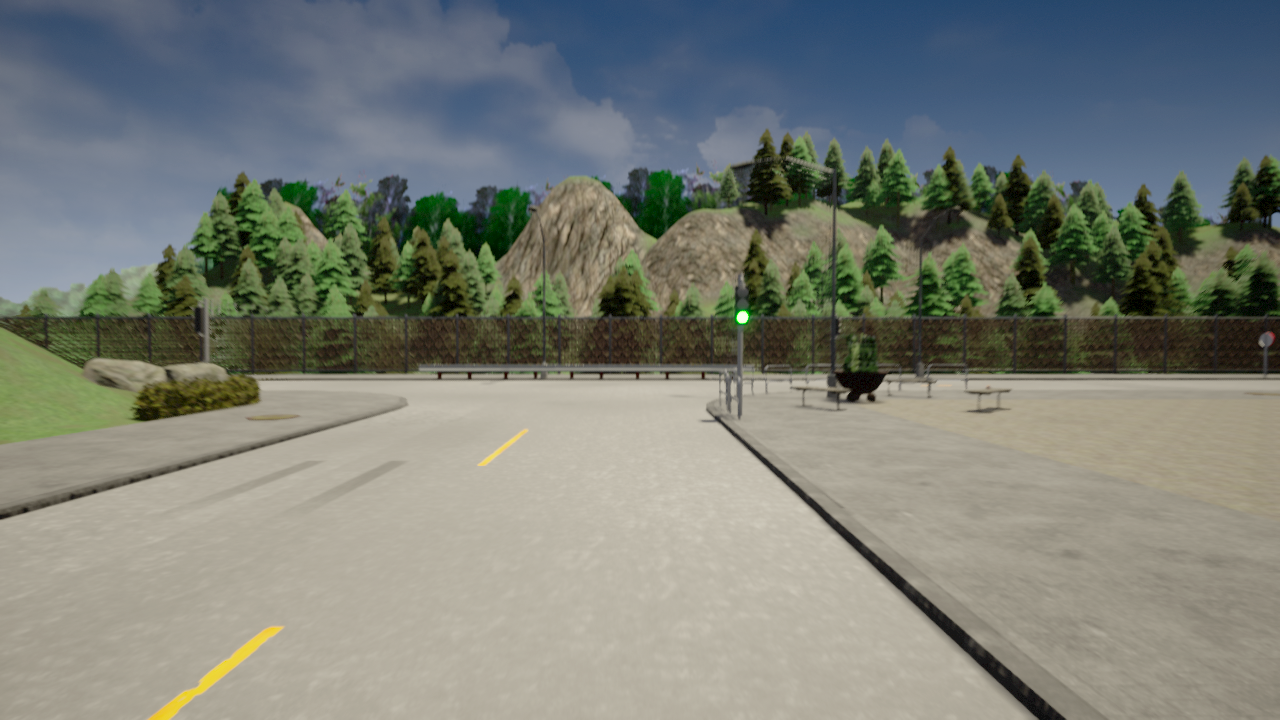green: (734, 283, 750, 327)
